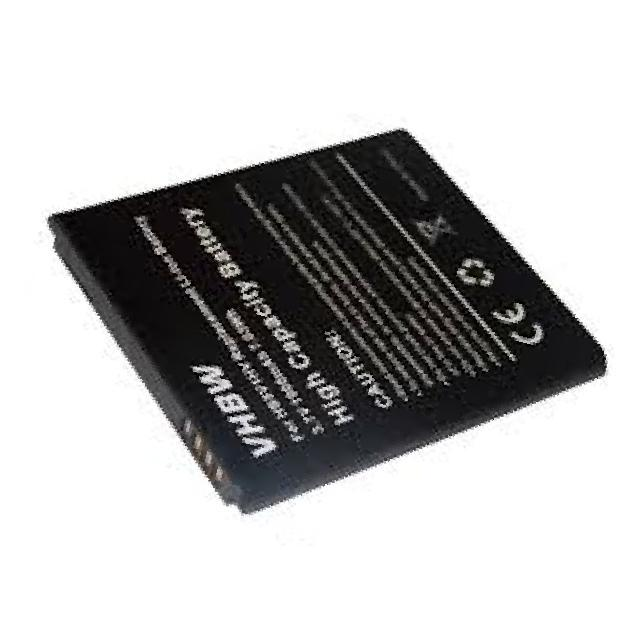Battery: (28, 122, 640, 522)
